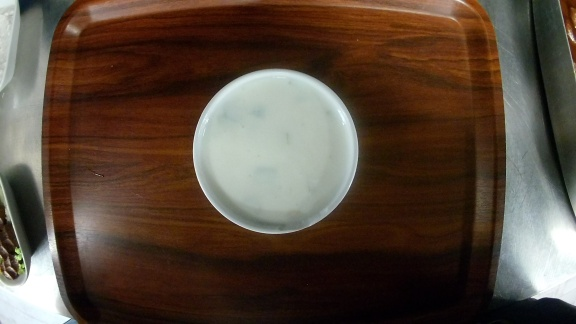cacik: (193, 68, 360, 235)
